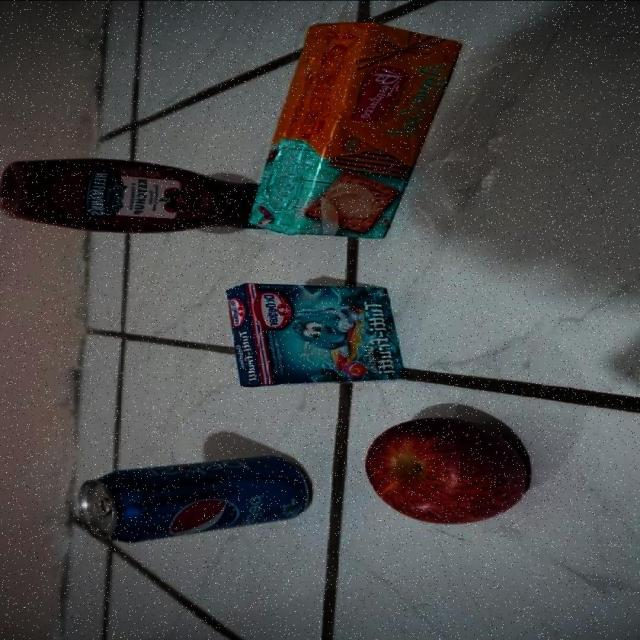Apple: (350, 414, 537, 532)
Cracker: (246, 21, 462, 247)
Gelatine: (221, 282, 404, 386)
Ketchup: (2, 156, 244, 235)
SodaCan: (72, 453, 312, 544)
